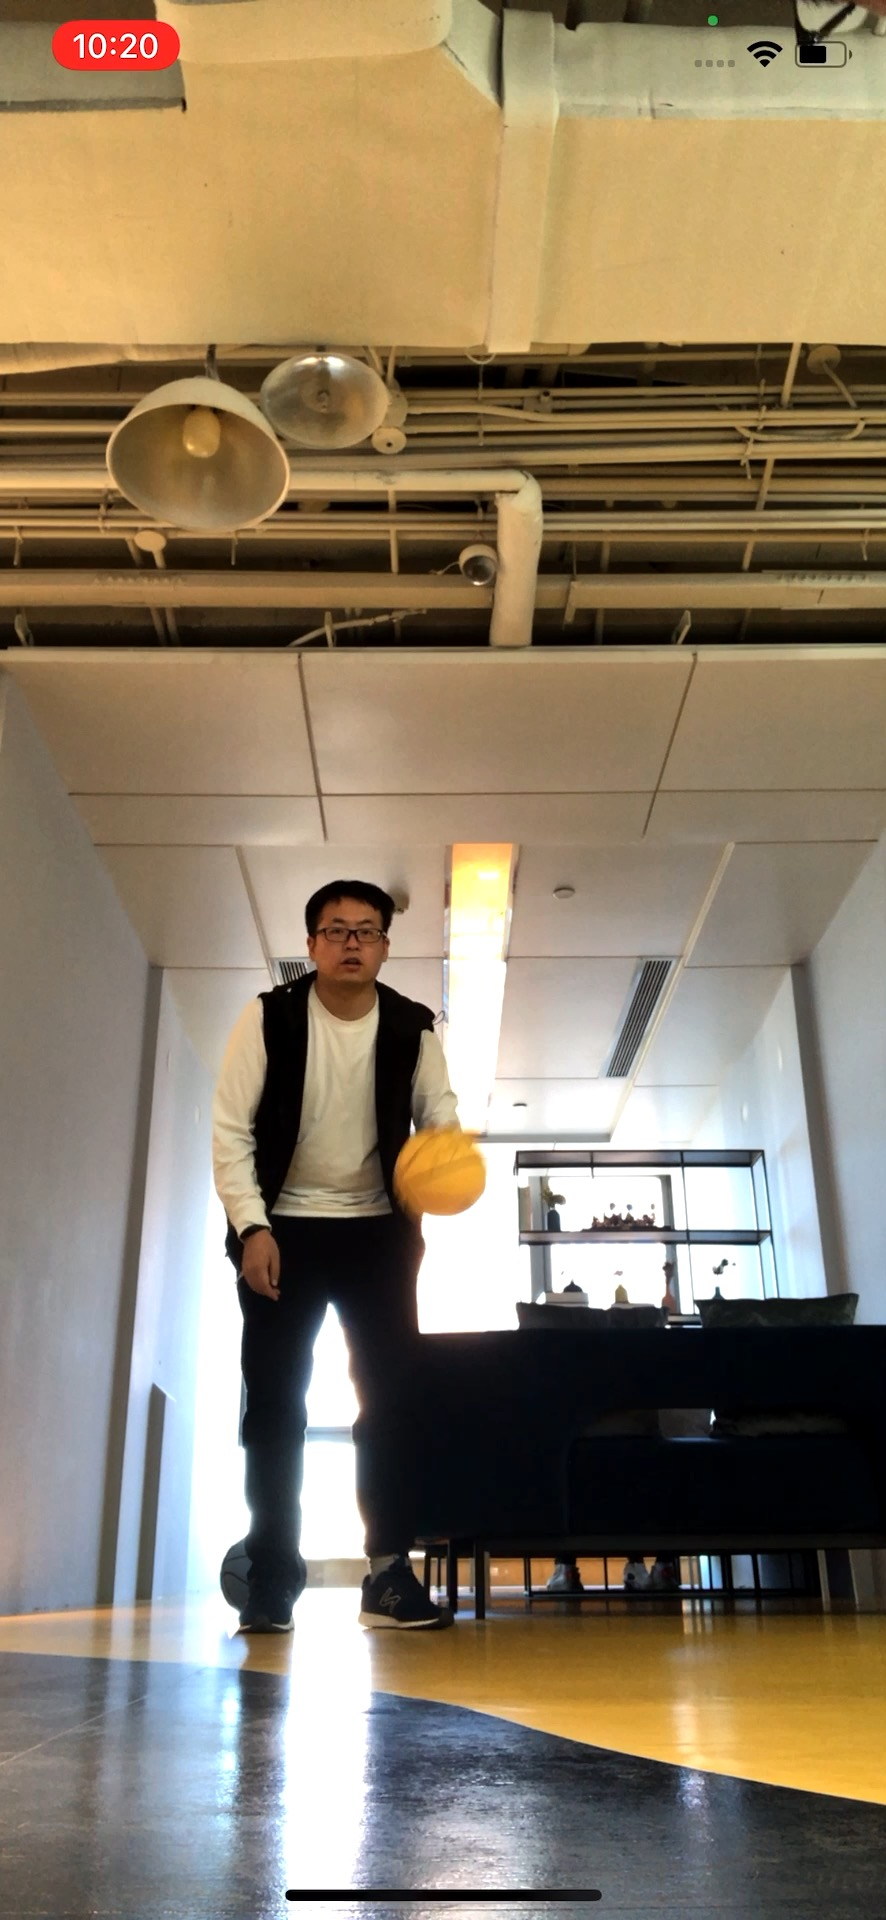ball: (394, 1123, 488, 1213)
